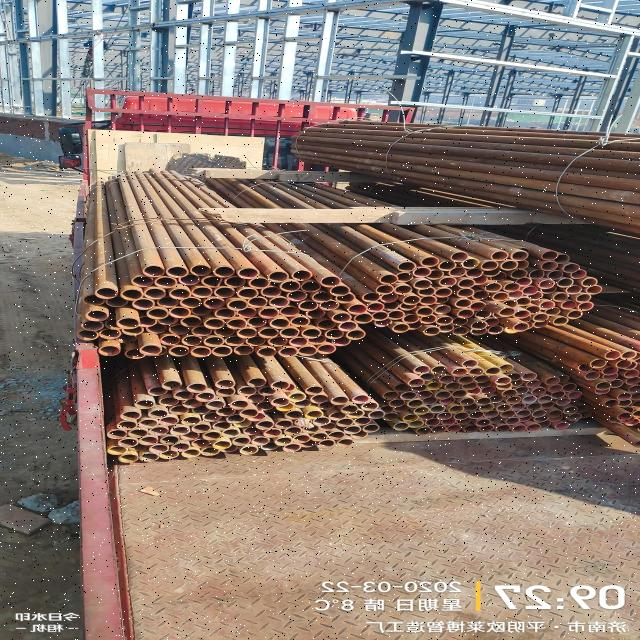pipe: (142, 264, 166, 277), (96, 344, 122, 356), (76, 328, 99, 341), (130, 274, 154, 286), (120, 288, 144, 300), (95, 287, 119, 299), (105, 296, 129, 308), (86, 310, 110, 322), (117, 317, 141, 329), (154, 276, 178, 288), (248, 277, 272, 289), (132, 298, 156, 310), (180, 316, 204, 328), (82, 294, 105, 306), (213, 266, 236, 278), (214, 286, 237, 298), (180, 296, 203, 308), (146, 308, 169, 320), (233, 344, 256, 356), (144, 288, 168, 299), (167, 266, 189, 278), (190, 264, 212, 276), (180, 274, 202, 286), (202, 276, 224, 288), (268, 271, 290, 283), (292, 269, 314, 281), (320, 276, 342, 288), (170, 288, 192, 300), (192, 286, 214, 298), (280, 280, 302, 292), (204, 297, 226, 309), (124, 347, 146, 359), (190, 346, 212, 358), (256, 346, 278, 358), (192, 304, 213, 316), (214, 386, 239, 396), (157, 297, 179, 308), (236, 307, 258, 318), (170, 307, 192, 318), (169, 346, 191, 357), (118, 453, 140, 464), (80, 320, 104, 330), (122, 325, 146, 335), (262, 286, 282, 298), (288, 290, 308, 302), (228, 299, 248, 311), (299, 300, 319, 312), (168, 324, 192, 334), (298, 344, 318, 356), (116, 420, 140, 430), (172, 390, 196, 400), (194, 392, 218, 402), (214, 379, 238, 389), (136, 436, 160, 446), (105, 318, 126, 329), (331, 285, 352, 296), (318, 344, 339, 355), (278, 347, 299, 358), (238, 268, 261, 278), (319, 300, 342, 310), (214, 308, 237, 318), (213, 326, 236, 336), (119, 410, 142, 420), (105, 429, 128, 439), (205, 400, 228, 410), (100, 329, 122, 339), (116, 333, 138, 343), (225, 277, 247, 287), (238, 288, 260, 298), (306, 308, 328, 318), (330, 313, 352, 323), (271, 318, 291, 329), (248, 317, 270, 327), (227, 319, 249, 329), (204, 319, 226, 329), (146, 323, 168, 333), (192, 326, 214, 336), (302, 328, 324, 338), (324, 329, 346, 339), (268, 336, 290, 346), (182, 336, 204, 346), (160, 335, 182, 345), (140, 345, 162, 355), (212, 346, 234, 356), (162, 380, 184, 390), (148, 386, 170, 396), (134, 399, 156, 409), (108, 445, 130, 455), (186, 383, 208, 393), (138, 418, 160, 428), (160, 416, 182, 426), (168, 405, 190, 415), (183, 398, 205, 408), (190, 405, 212, 415), (128, 428, 150, 438), (148, 426, 170, 436), (160, 435, 182, 445), (148, 444, 170, 454), (464, 267, 484, 278), (116, 438, 140, 447), (396, 271, 414, 283), (258, 328, 279, 338), (279, 328, 300, 338), (203, 336, 224, 346), (148, 409, 169, 419), (274, 420, 295, 430), (158, 397, 181, 406), (302, 282, 322, 292), (336, 293, 356, 303), (313, 292, 333, 302), (270, 297, 290, 307), (248, 297, 268, 307), (348, 304, 368, 314), (280, 306, 300, 316), (260, 308, 280, 318), (354, 314, 374, 324), (339, 321, 359, 331), (317, 320, 337, 330), (290, 317, 310, 327), (137, 317, 157, 327), (238, 328, 258, 338), (346, 330, 366, 340), (332, 336, 352, 346), (290, 337, 310, 347), (246, 336, 266, 346), (225, 336, 245, 346), (170, 426, 190, 436), (140, 452, 160, 462), (182, 416, 202, 426), (202, 412, 222, 422), (216, 406, 236, 416), (222, 428, 242, 438), (238, 386, 258, 396), (248, 378, 268, 388), (284, 410, 304, 420), (276, 383, 296, 393), (288, 392, 308, 402), (293, 398, 313, 408), (304, 410, 324, 420), (420, 256, 440, 266), (398, 262, 418, 272), (379, 274, 399, 284), (375, 284, 395, 294), (394, 285, 414, 295), (414, 280, 434, 290), (157, 316, 179, 325), (604, 349, 622, 360), (417, 306, 435, 317), (182, 448, 201, 458), (247, 393, 266, 403), (232, 436, 251, 446), (261, 441, 280, 451), (402, 314, 421, 324), (403, 296, 422, 306), (483, 282, 502, 292), (308, 334, 326, 344), (128, 443, 148, 452), (160, 450, 180, 459), (230, 400, 250, 409), (240, 409, 260, 418), (226, 414, 246, 423), (192, 423, 212, 432), (180, 431, 200, 440), (202, 432, 222, 441), (212, 440, 232, 449), (259, 386, 277, 396), (248, 412, 266, 422), (242, 426, 262, 435), (251, 437, 271, 446), (304, 386, 324, 395), (328, 412, 348, 421), (352, 394, 370, 404), (584, 371, 602, 381), (602, 366, 620, 376), (620, 350, 638, 360), (595, 381, 613, 391), (615, 398, 633, 408), (542, 250, 560, 260), (511, 250, 529, 260), (451, 252, 469, 262), (362, 292, 380, 302), (372, 312, 390, 322), (389, 310, 407, 320), (502, 260, 520, 270), (482, 260, 500, 270), (462, 258, 480, 268), (439, 260, 457, 270), (414, 267, 432, 277), (418, 286, 436, 296), (439, 276, 457, 286), (450, 267, 468, 277), (458, 278, 476, 288), (457, 288, 475, 298), (435, 287, 453, 297), (420, 296, 438, 306), (435, 304, 453, 314), (570, 269, 588, 279), (566, 284, 584, 294), (538, 279, 556, 289), (566, 309, 584, 319), (516, 276, 534, 286), (522, 286, 540, 296), (526, 291, 544, 301), (483, 317, 501, 327), (410, 383, 428, 393), (271, 381, 290, 390), (331, 396, 350, 405), (492, 250, 509, 260), (382, 292, 399, 302), (511, 269, 528, 279), (472, 290, 489, 300), (470, 301, 487, 311), (492, 292, 509, 302), (421, 314, 438, 324), (576, 292, 593, 302), (561, 300, 578, 310), (507, 290, 524, 300), (437, 315, 454, 325), (553, 316, 570, 326), (272, 398, 290, 407), (336, 418, 354, 427), (368, 410, 386, 419), (590, 359, 608, 368), (366, 303, 384, 312), (454, 299, 472, 308), (504, 283, 522, 292), (475, 309, 493, 318), (470, 321, 488, 330), (170, 444, 190, 452), (213, 422, 233, 430), (192, 439, 212, 447), (200, 447, 220, 455), (258, 400, 274, 410), (240, 446, 260, 454), (219, 445, 239, 453), (263, 429, 283, 437), (282, 444, 302, 452), (283, 426, 303, 434), (301, 426, 321, 434), (294, 418, 314, 426), (312, 394, 328, 404), (318, 401, 338, 409), (623, 360, 639, 370), (376, 318, 392, 328), (428, 270, 444, 280), (542, 261, 558, 271), (530, 269, 546, 279), (491, 272, 507, 282), (564, 263, 580, 273), (548, 270, 564, 280), (472, 276, 488, 286), (500, 307, 516, 317), (514, 322, 530, 332), (582, 277, 598, 287), (588, 284, 604, 294), (558, 278, 574, 288), (553, 292, 569, 302), (578, 301, 594, 311), (516, 296, 532, 306), (454, 326, 470, 336), (424, 326, 440, 336), (417, 389, 433, 399), (430, 404, 446, 414), (436, 390, 452, 400), (489, 394, 505, 404), (393, 323, 410, 332), (256, 421, 275, 429), (233, 419, 252, 427), (617, 390, 632, 400), (384, 301, 399, 311), (458, 308, 473, 318), (276, 403, 294, 411), (293, 434, 311, 442), (300, 440, 318, 448), (310, 433, 328, 441), (318, 440, 336, 448), (338, 438, 356, 446), (344, 426, 362, 434), (341, 406, 359, 414), (348, 410, 366, 418), (354, 417, 372, 425), (363, 424, 381, 432), (362, 402, 380, 410), (602, 372, 620, 380), (602, 400, 620, 408), (400, 302, 418, 310), (554, 254, 570, 263), (484, 269, 502, 277), (514, 310, 530, 319), (540, 300, 556, 309), (488, 326, 504, 335), (534, 313, 550, 322), (438, 323, 454, 332), (532, 387, 548, 396), (495, 377, 513, 385), (388, 399, 406, 407), (403, 413, 419, 422), (438, 376, 456, 384), (444, 382, 462, 390), (499, 410, 517, 418), (320, 422, 337, 430), (616, 360, 633, 368), (414, 406, 431, 414), (394, 384, 411, 392), (414, 366, 431, 374), (431, 366, 448, 374), (439, 396, 456, 404), (459, 398, 476, 406), (625, 369, 640, 378), (515, 260, 530, 269), (276, 437, 292, 445), (609, 380, 625, 388), (540, 286, 556, 294), (546, 307, 562, 315), (502, 300, 518, 308), (452, 317, 468, 325), (471, 327, 487, 335), (524, 306, 540, 314), (563, 406, 579, 414), (567, 414, 583, 422), (546, 376, 562, 384), (548, 384, 564, 392), (556, 398, 572, 406), (548, 410, 564, 418), (537, 396, 553, 404), (526, 380, 542, 388), (522, 372, 538, 380), (506, 373, 522, 381), (502, 389, 518, 397), (522, 396, 538, 404), (527, 403, 543, 411), (532, 410, 548, 418), (496, 424, 512, 432), (479, 424, 495, 432), (447, 424, 463, 432), (382, 412, 398, 420), (393, 404, 409, 412), (408, 420, 424, 428), (419, 412, 435, 420), (408, 400, 424, 408), (408, 379, 424, 387), (419, 373, 435, 381), (422, 397, 438, 405), (437, 412, 453, 420), (424, 418, 440, 426), (454, 412, 470, 420), (476, 419, 492, 427), (450, 406, 466, 414), (452, 390, 468, 398), (479, 404, 495, 412), (483, 410, 499, 418), (518, 414, 534, 422), (476, 397, 492, 405), (462, 382, 478, 390), (452, 368, 468, 376), (481, 386, 497, 394), (477, 380, 493, 388), (474, 375, 490, 383), (485, 368, 501, 376), (468, 368, 484, 376), (462, 360, 478, 368), (400, 392, 418, 399), (408, 322, 423, 330), (497, 382, 512, 390), (507, 396, 522, 404), (464, 425, 479, 433), (432, 426, 447, 434), (417, 426, 432, 434), (394, 422, 409, 430), (489, 416, 504, 424), (469, 411, 484, 419), (467, 387, 482, 395), (458, 376, 473, 384), (328, 432, 345, 439), (620, 416, 637, 423), (352, 431, 368, 438), (578, 363, 592, 371), (626, 377, 640, 385), (618, 412, 632, 420), (435, 296, 449, 304), (534, 321, 550, 328), (580, 410, 594, 418), (576, 404, 590, 412), (555, 422, 571, 429), (568, 391, 584, 398), (564, 383, 578, 391), (557, 374, 571, 382), (550, 391, 566, 398), (541, 401, 555, 409), (500, 364, 514, 372), (510, 379, 524, 387), (516, 387, 530, 395), (534, 415, 548, 423), (527, 424, 541, 432), (442, 418, 456, 426), (427, 382, 443, 389), (506, 416, 520, 424), (517, 409, 531, 417), (594, 388, 612, 394), (455, 418, 473, 424), (384, 392, 399, 399), (463, 404, 478, 411), (538, 421, 552, 428), (380, 406, 394, 413), (548, 415, 564, 421), (514, 424, 526, 432), (620, 407, 635, 413), (630, 386, 639, 394)
